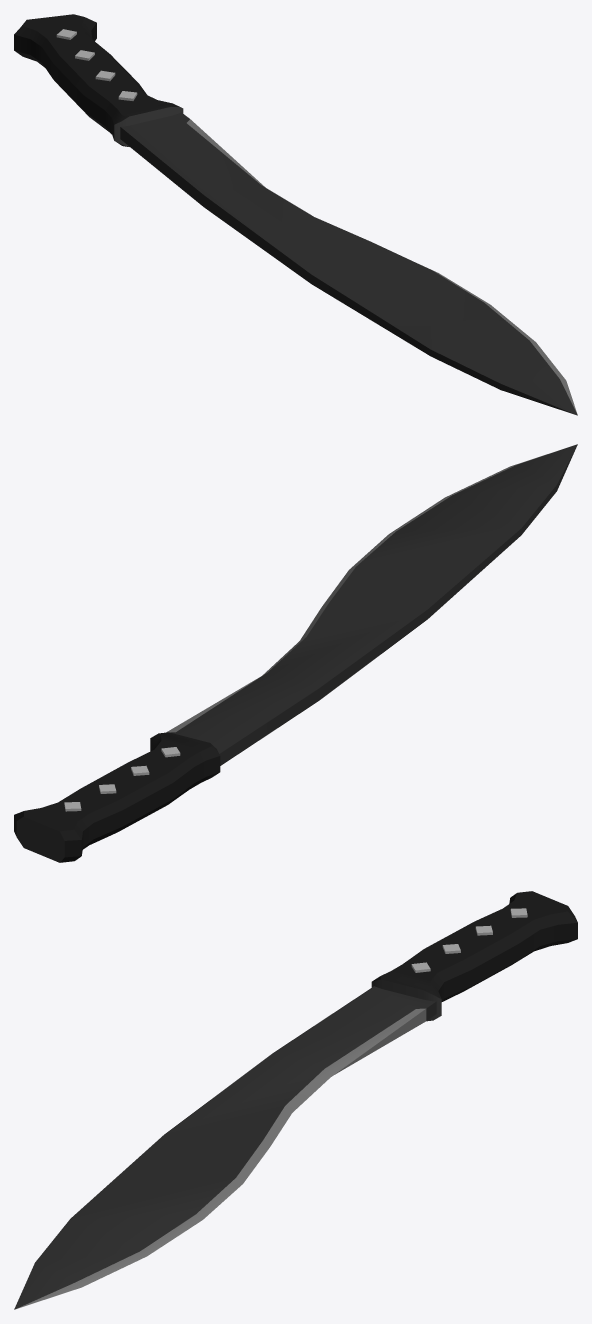
Rendered from Kukri_3D.glb.
The picture shows the model from 3 angles, top to bottom: view 1: azimuth 30°, elevation 25°; view 2: azimuth 150°, elevation 25°; view 3: azimuth 330°, elevation 25°; orthographic projection. The views are drawn at different scales.
Parts seen in each view (by area): view 1: Kukri; view 2: Kukri; view 3: Kukri.
Part boxes in pixels (x1,y1,x2,y2): Kukri: [14, 14, 577, 415]; Kukri: [14, 444, 577, 862]; Kukri: [14, 891, 577, 1309].
Bounding box in the file's own units: 0.1011 × 0.0316 × 0.8491.
1 material, 1 textured.
